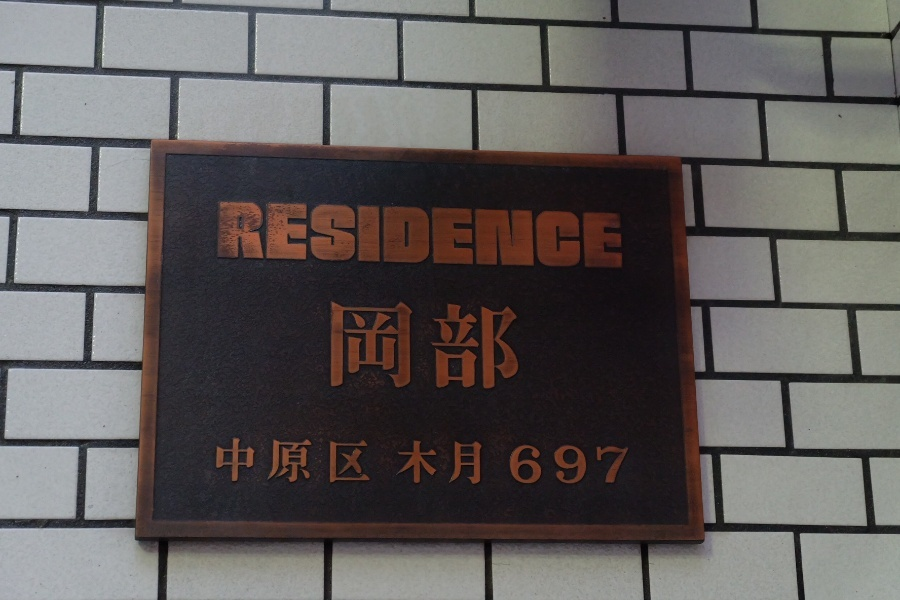text: (337, 299, 352, 395), (353, 299, 368, 395), (369, 299, 384, 395), (385, 299, 400, 395), (401, 299, 416, 395), (417, 299, 432, 395), (433, 299, 448, 395), (449, 299, 464, 395), (465, 299, 480, 395), (481, 299, 496, 395), (497, 299, 512, 395), (609, 202, 625, 277), (225, 202, 240, 277), (241, 202, 256, 277), (257, 202, 272, 277), (273, 202, 288, 277), (289, 202, 304, 277), (305, 202, 320, 277), (321, 202, 336, 277), (337, 202, 352, 277), (353, 202, 368, 277), (369, 202, 384, 277), (385, 202, 400, 277), (401, 202, 416, 277), (417, 202, 432, 277), (433, 202, 448, 277), (449, 202, 464, 277), (465, 202, 480, 277), (481, 202, 496, 277), (497, 202, 512, 277), (513, 202, 528, 277), (529, 202, 544, 277), (545, 202, 560, 277), (561, 202, 576, 277), (577, 202, 592, 277), (593, 202, 608, 277), (225, 433, 240, 490), (241, 433, 256, 490), (257, 433, 272, 490), (273, 433, 288, 490), (289, 433, 304, 490), (305, 433, 320, 490), (321, 433, 336, 490), (337, 433, 352, 490), (353, 433, 368, 490), (401, 438, 416, 489), (417, 438, 432, 489), (433, 438, 448, 489), (449, 438, 464, 489), (465, 438, 480, 489), (211, 433, 224, 490), (329, 299, 336, 395), (513, 299, 520, 395), (513, 444, 528, 487), (529, 444, 544, 487), (545, 444, 560, 487), (561, 444, 576, 487), (577, 444, 592, 487), (593, 444, 608, 487), (609, 444, 624, 487), (216, 202, 224, 277), (369, 433, 376, 490), (625, 444, 633, 487), (481, 438, 484, 489), (509, 444, 512, 487)
